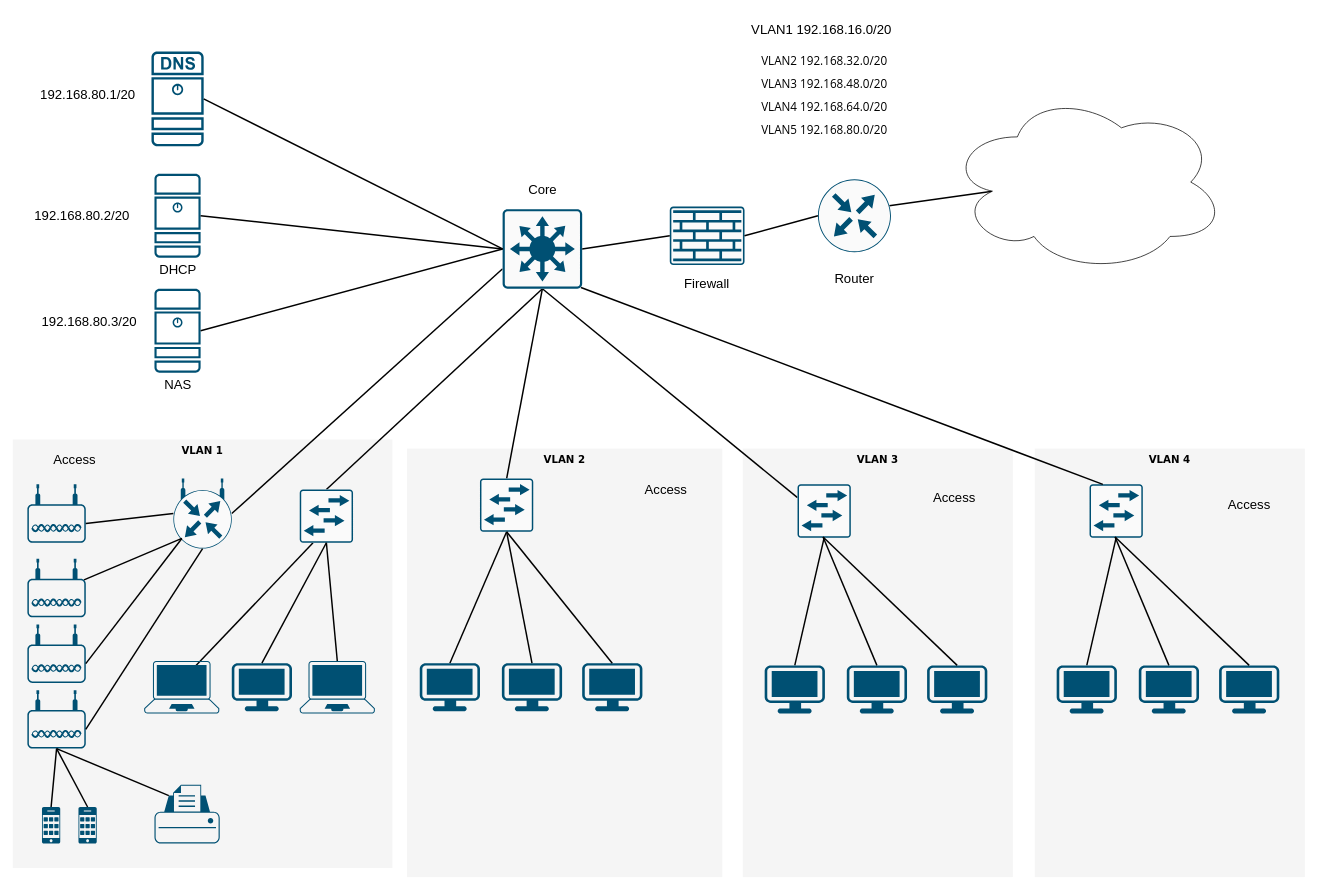
The diagram is 1317 pixels wide and 889 high, and some of its shapes have lost their labels. Each missing label, with the centre of its shape:
"DNS" goes at point 177,98.
"Internet" goes at point 1086,182.
